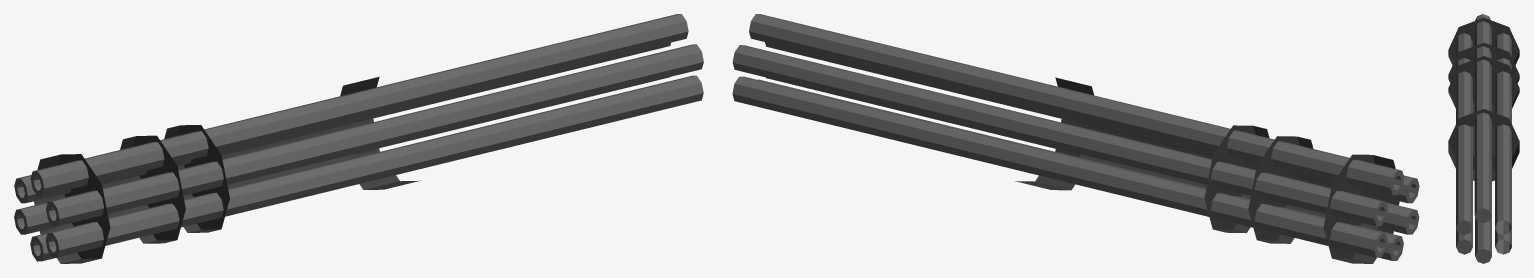
The model's file is minugun.glb.
The picture shows the model from 3 angles, left to right: view 1: azimuth 30°, elevation 25°; view 2: azimuth 150°, elevation 25°; view 3: azimuth 270°, elevation 25°; orthographic projection. The views are drawn at different scales.
Visible parts, largest first — view 1: minigun; view 2: minigun; view 3: minigun.
Boxes of the visible parts, x1,y1,x2,y2 form: minigun: (14,14,703,263); minigun: (732,14,1419,263); minigun: (1448,14,1519,263).
Bounding box in the file's own units: 3.09 × 0.4807 × 0.4807.
Materials: 1 (1 with a texture image).
